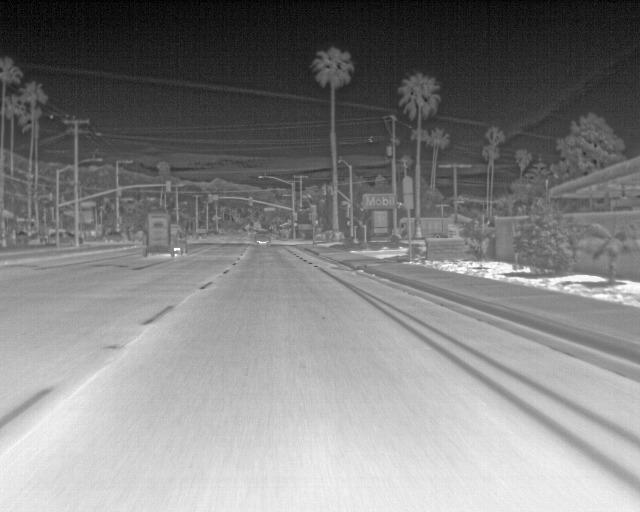car: (144, 212, 187, 257), (392, 218, 449, 239), (48, 231, 83, 246), (253, 229, 271, 246), (102, 231, 122, 243), (28, 233, 48, 244), (16, 231, 28, 244), (133, 231, 144, 243)
light: (166, 181, 171, 192), (117, 186, 122, 196), (344, 206, 348, 218), (322, 187, 326, 195), (328, 186, 332, 194), (208, 195, 212, 203), (294, 213, 297, 221), (309, 213, 312, 220), (249, 198, 252, 205), (314, 221, 318, 224), (294, 223, 297, 226)
sign: (403, 176, 413, 193), (403, 195, 413, 209), (2, 210, 13, 219), (298, 224, 313, 230), (81, 202, 96, 206), (264, 208, 275, 211), (213, 195, 218, 200), (216, 217, 221, 219)
